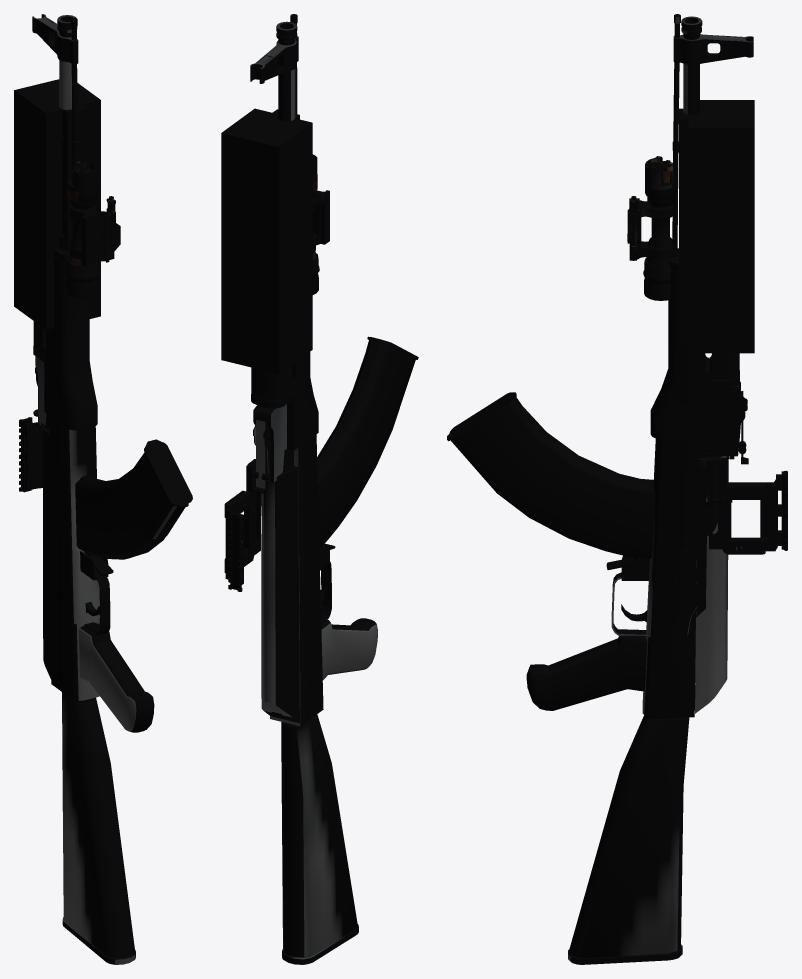
The model's file is AK47__Handguard_AK_Quad__Light_Weapon__Mount_AK_SideRail.fbx.
3 renders of one model, left to right at view 1: azimuth 30°, elevation 25°; view 2: azimuth 150°, elevation 25°; view 3: azimuth 270°, elevation 25°, orthographic. The views are drawn at different scales.
Parts seen in each view (by area): view 1: asset_AK47.001; view 2: asset_AK47.001; view 3: asset_AK47.001.
Boxes of the visible parts, x1,y1,x2,y2 form: asset_AK47.001: (14, 14, 192, 964); asset_AK47.001: (221, 14, 418, 964); asset_AK47.001: (447, 14, 787, 964).
Size of the model in its own units: 0.0336 by 0.528 by 0.173.
